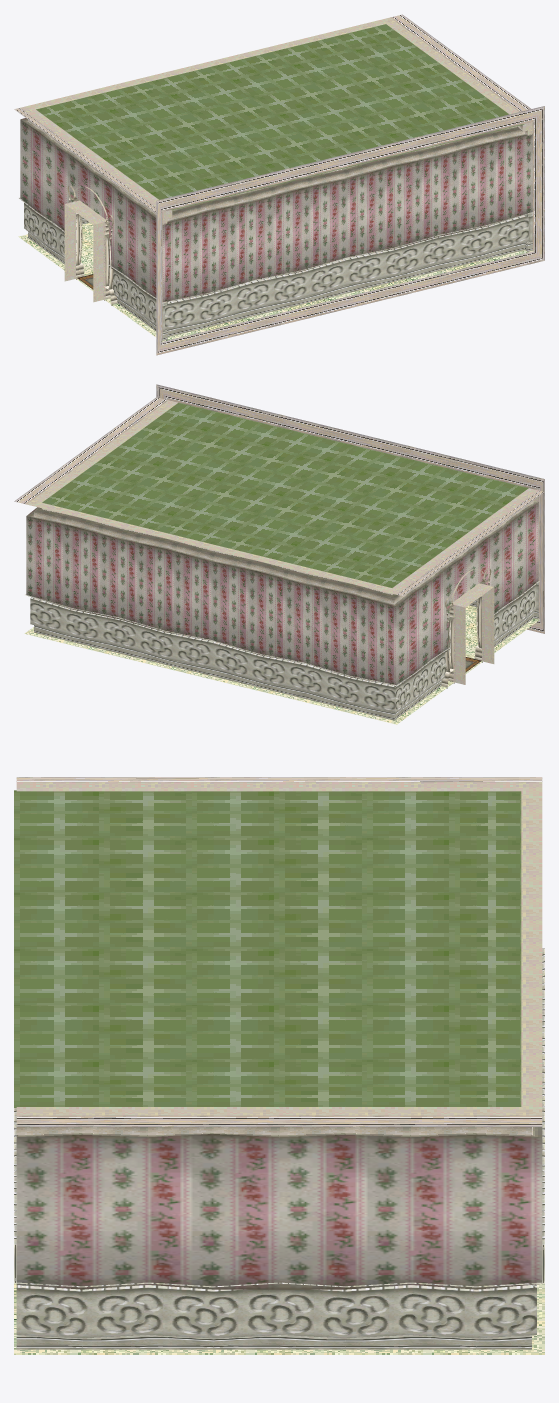
Rendered from room_28A.glb.
3 views of the same model, one above another, from view 1: azimuth 30°, elevation 25°; view 2: azimuth 150°, elevation 25°; view 3: azimuth 270°, elevation 25° (orthographic). The views are drawn at different scales.
Visible parts, largest first — view 1: room_28A; view 2: room_28A; view 3: room_28A.
Part boxes in pixels (x1,y1,x2,y2): room_28A: (14,14,544,355); room_28A: (14,384,544,724); room_28A: (14,777,544,1354).
Size of the model in its own units: 1600 by 600 by 1010.
25 materials, 25 textured.
